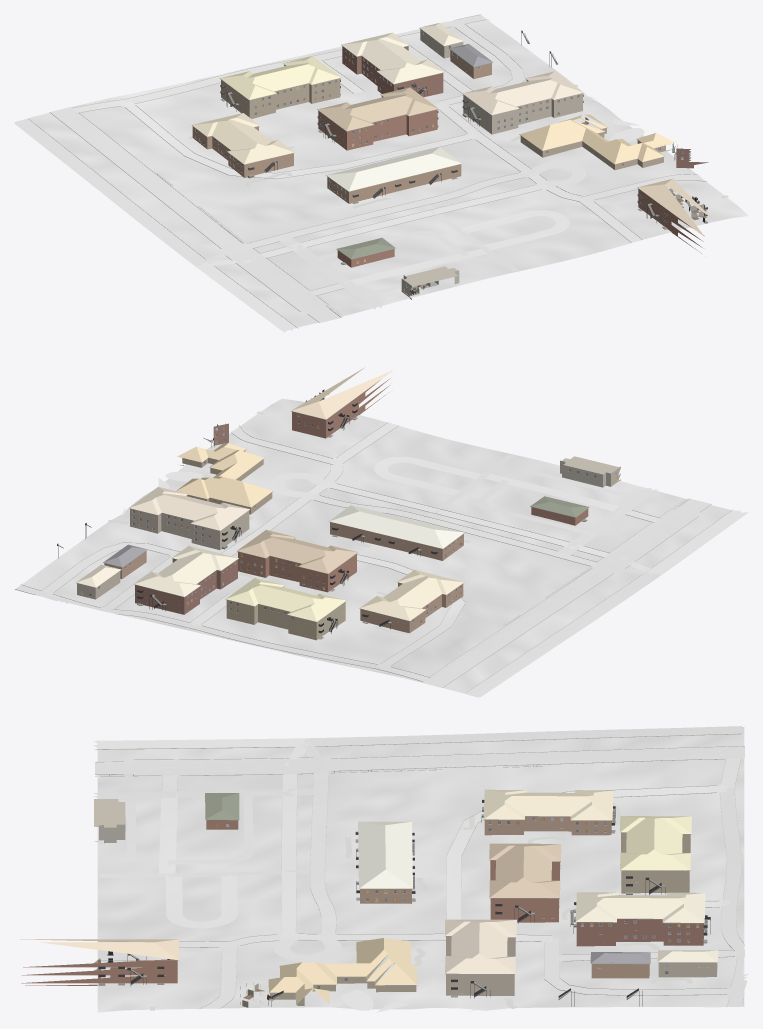
3 renders of one model, top to bottom at view 1: azimuth 30°, elevation 25°; view 2: azimuth 150°, elevation 25°; view 3: azimuth 270°, elevation 25°, orthographic. The views are drawn at different scales.
Visible parts, largest first — view 1: ground, roof, concrete, wall, asphalt, curb, detail, roof_flat, rail, glass, walk; view 2: ground, roof, concrete, wall, asphalt, curb, detail, wall_com, glass, rail, walk, roof_flat; view 3: ground, roof, concrete, wall, asphalt, curb, detail, walk, roof_flat, rail, water, mark_y (+1 smaller).
Boxes of the visible parts, x1,y1,x2,y2 form: ground: [14, 14, 748, 329]; roof: [192, 23, 711, 258]; concrete: [73, 15, 703, 309]; wall: [192, 29, 708, 267]; asphalt: [14, 107, 340, 332]; curb: [29, 14, 706, 327]; detail: [192, 28, 707, 295]; roof_flat: [403, 266, 458, 286]; rail: [220, 30, 707, 222]; glass: [196, 32, 690, 199]; walk: [156, 84, 728, 317]; ground: [14, 398, 741, 697]; roof: [76, 367, 588, 621]; concrete: [16, 422, 658, 681]; wall: [77, 378, 588, 640]; asphalt: [421, 499, 748, 697]; curb: [15, 422, 733, 692]; detail: [58, 385, 617, 639]; wall_com: [560, 460, 620, 487]; glass: [89, 414, 596, 628]; rail: [57, 392, 437, 632]; walk: [108, 411, 689, 634]; roof_flat: [562, 456, 619, 474]; ground: [97, 727, 744, 1012]; roof: [20, 789, 718, 1004]; concrete: [93, 758, 748, 1008]; wall: [21, 816, 717, 999]; asphalt: [93, 726, 744, 775]; curb: [95, 733, 744, 1008]; detail: [98, 799, 717, 1006]; walk: [95, 765, 692, 1010]; roof_flat: [94, 799, 125, 827]; rail: [98, 800, 710, 998]; water: [342, 989, 490, 1012]; mark_y: [95, 733, 741, 762].
Bounding box in the file's own units: 258 × 18.04 × 284.
